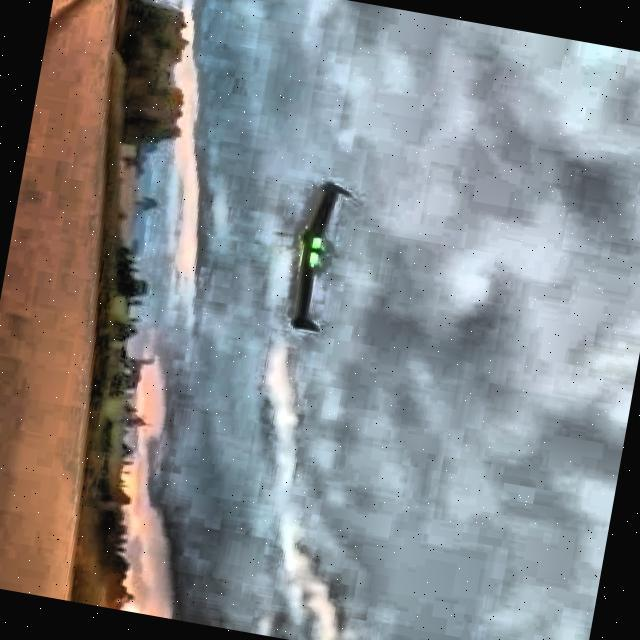iha: (301, 170, 331, 349)
